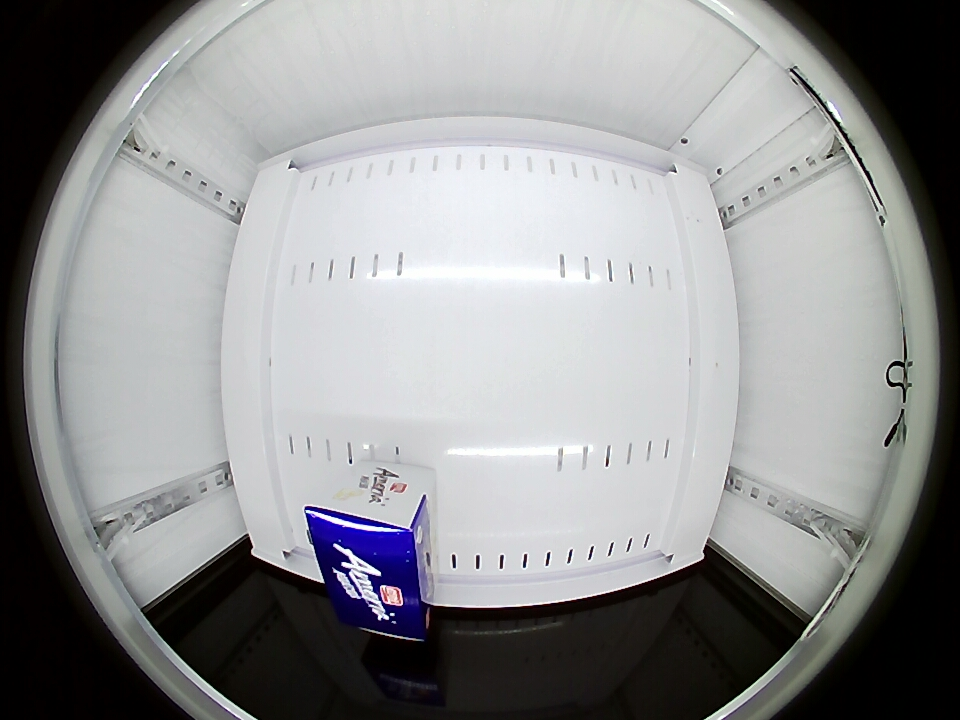meiniye: (303, 492, 429, 641)
